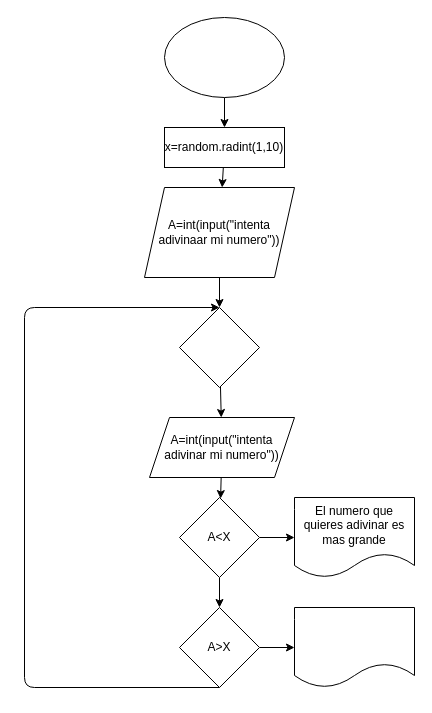
The diagram is 432 pixels wide and 713 high, and some of its shapes have lost their labels. Each missing label, with the centre of its shape:
"A!=X" belongs at point (219, 347).
"El numero que qieres adivinar es mas pequeño" belongs at point (354, 647).
"INICIO" belongs at point (224, 57).
